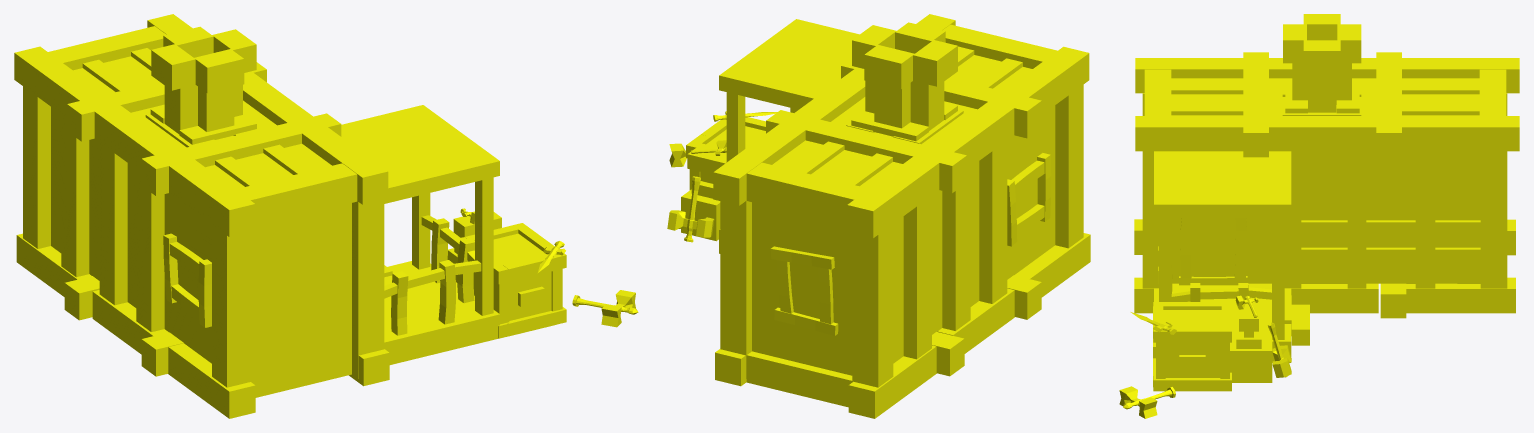
File: blacksmith-building.glb
3 views of the same model, side by side, from view 1: azimuth 30°, elevation 25°; view 2: azimuth 150°, elevation 25°; view 3: azimuth 270°, elevation 25° (orthographic). The views are drawn at different scales.
Visible parts, largest first — view 1: Blacksmith, Forge, Lava, War Hammer 2; view 2: Blacksmith, Unlit, Forge, War Hammer 1, Anvil, Lava; view 3: Blacksmith, Forge, Lava, Anvil, War Hammer 2, War Hammer 1.
Boxes of the visible parts, x1,y1,x2,y2 form: Blacksmith: (14,14,499,418); Forge: (447,223,566,338); Lava: (493,233,546,264); War Hammer 2: (572,290,638,327); Blacksmith: (713,14,1090,418); Unlit: (789,179,1037,318); Forge: (681,117,765,241); War Hammer 1: (667,176,714,242); Anvil: (687,146,726,198); Lava: (706,126,765,148); Blacksmith: (1134,14,1519,362); Forge: (1153,302,1272,391); Lava: (1163,310,1221,327); Anvil: (1236,302,1261,348); War Hammer 2: (1119,386,1175,418); War Hammer 1: (1267,322,1291,377).
Size of the model in its own units: 17.26 by 10.68 by 15.74.
2 materials, 2 textured.
